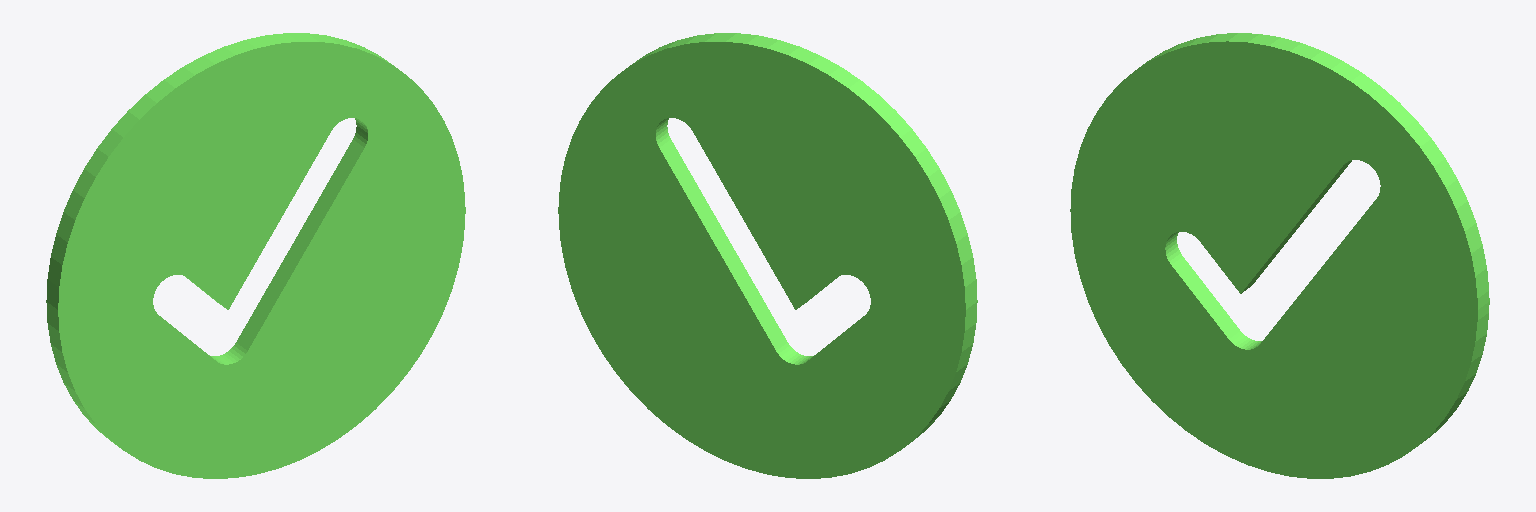
3 views of the same model, side by side, from view 1: azimuth 30°, elevation 25°; view 2: azimuth 150°, elevation 25°; view 3: azimuth 330°, elevation 25° (orthographic).
Parts seen in each view (by area): view 1: ok.001; view 2: ok.001; view 3: ok.001.
Part boxes in pixels (x1,y1,x2,y2): ok.001: (46, 33, 465, 478); ok.001: (558, 33, 977, 478); ok.001: (1070, 33, 1489, 478).
Size of the model in its own units: 2 by 2 by 0.1.
1 materials, 1 textured.